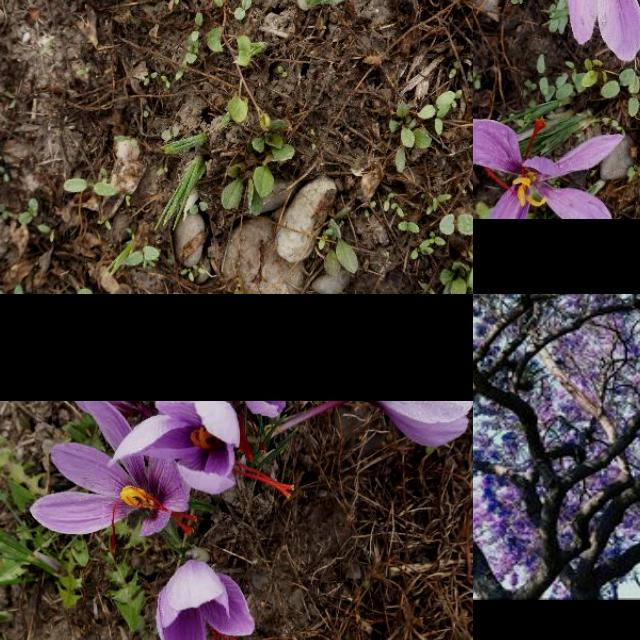flower: (29, 402, 197, 554), (107, 402, 293, 498), (155, 559, 255, 640), (515, 0, 640, 62)
overlap: (30, 401, 473, 554), (473, 82, 625, 219)
